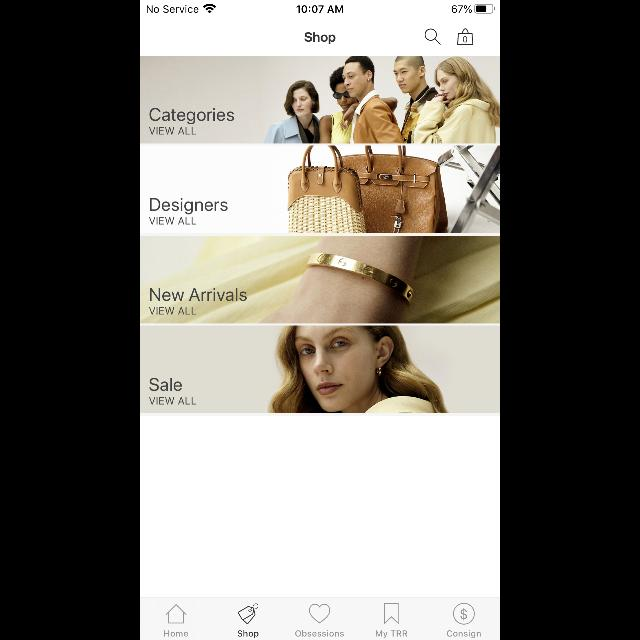icon: (454, 604, 474, 624), (238, 604, 258, 624), (166, 604, 187, 622), (310, 604, 330, 622), (384, 602, 398, 624), (457, 29, 473, 45), (425, 29, 441, 45)
image: (140, 236, 500, 324), (140, 56, 500, 144), (140, 326, 500, 412), (140, 146, 500, 232)
text: (150, 108, 234, 124), (150, 198, 228, 214), (151, 288, 247, 300), (150, 378, 182, 390), (304, 32, 336, 44), (150, 218, 197, 225), (296, 630, 344, 636), (150, 398, 197, 404), (150, 308, 197, 314), (150, 128, 197, 134), (447, 630, 481, 638), (376, 630, 406, 638), (238, 630, 258, 638), (164, 630, 188, 636)
uppertaskbar: (140, 0, 500, 14)
